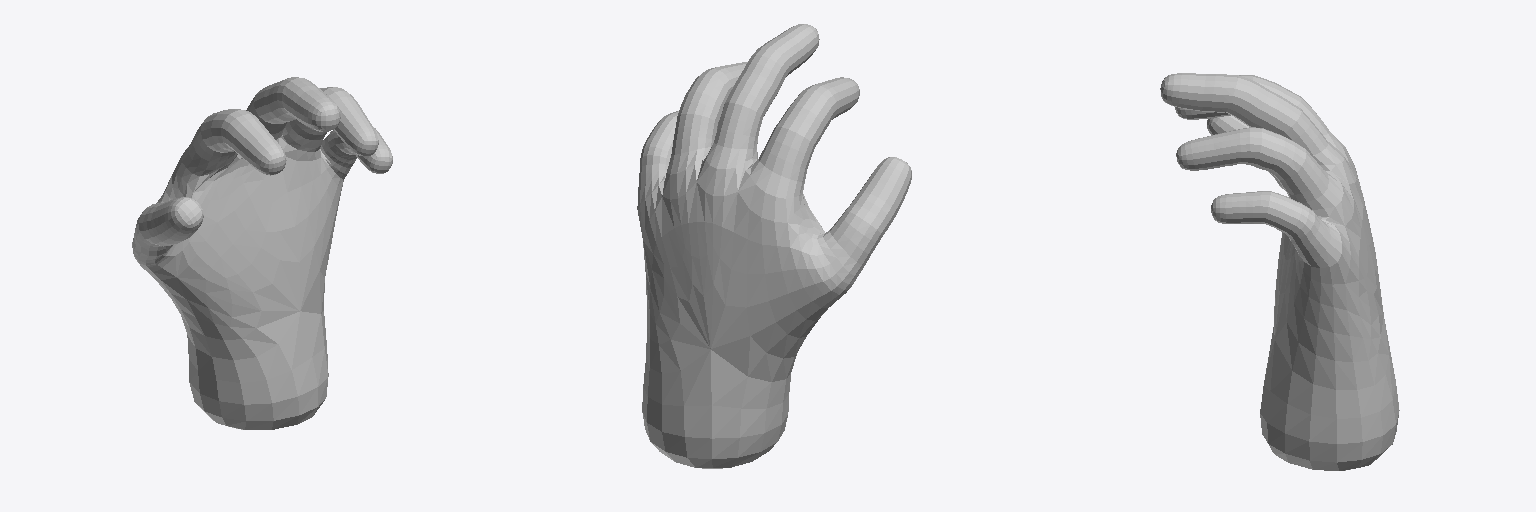
The model's file is handanimatsion26.obj.
3 views of the same model, side by side, from view 1: azimuth 30°, elevation 25°; view 2: azimuth 150°, elevation 25°; view 3: azimuth 270°, elevation 25° (orthographic).
Parts seen in each view (by area): view 1: Cube; view 2: Cube; view 3: Cube.
Boxes of the visible parts, <box> form: Cube: <box>132,77,392,429</box>; Cube: <box>637,24,911,468</box>; Cube: <box>1160,73,1399,470</box>.
Bounding box in the file's own units: 3.38 × 5.29 × 3.03.